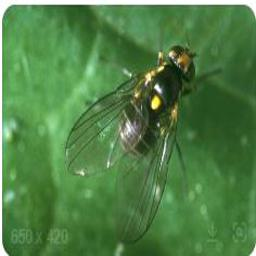liriomyza: (62, 43, 221, 244)
